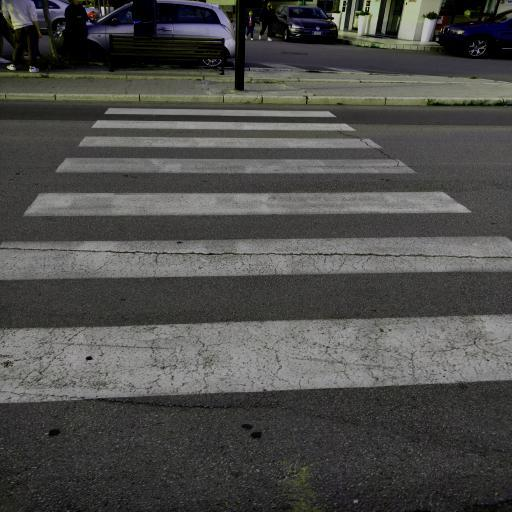crosswalk: (18, 154, 476, 226), (88, 104, 364, 134)
